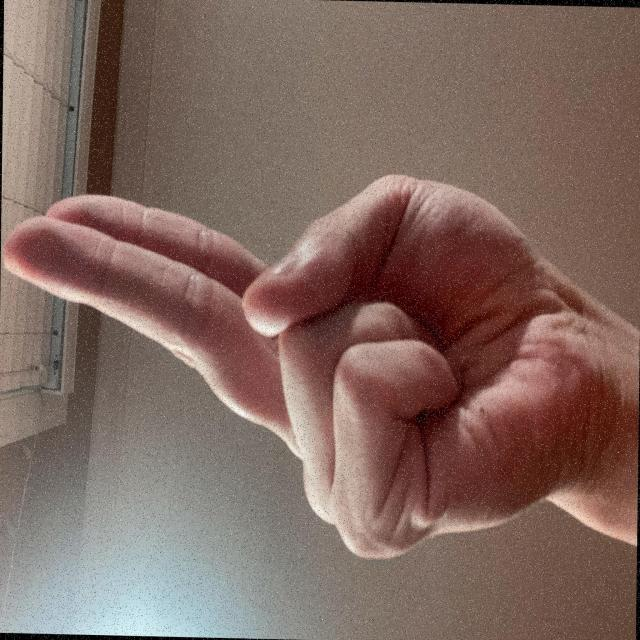U: (43, 0, 366, 640)
